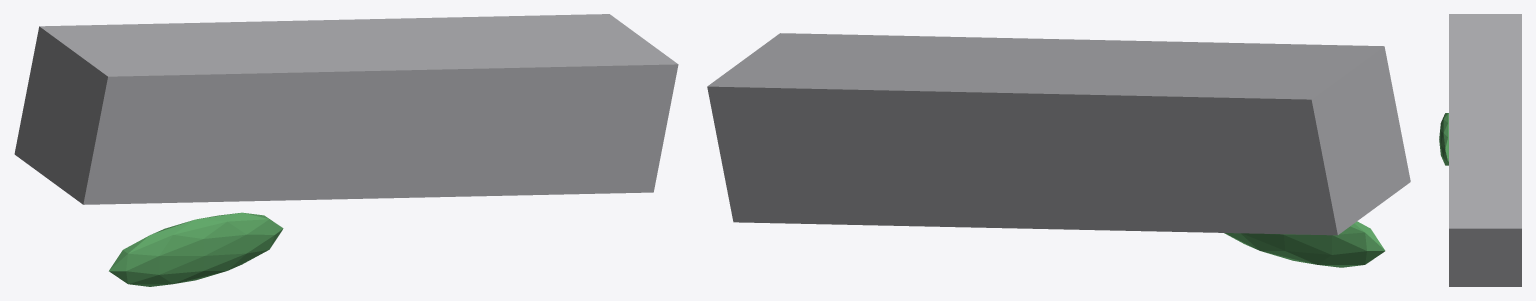
Rendered from ruins_fallen_arch_piece.glb.
The picture shows the model from 3 angles, left to right: view 1: azimuth 30°, elevation 25°; view 2: azimuth 150°, elevation 25°; view 3: azimuth 270°, elevation 25°; orthographic projection. The views are drawn at different scales.
Parts seen in each view (by area): view 1: arch_fragment, moss; view 2: arch_fragment, moss; view 3: arch_fragment, moss.
Part boxes in pixels (x1,y1,x2,y2): arch_fragment: (14,14,678,204); moss: (109,212,283,286); arch_fragment: (707,33,1410,235); moss: (1224,221,1385,267); arch_fragment: (1449,14,1521,286); moss: (1439,113,1448,165).
Size of the model in its own units: 2.25 by 0.8976 by 0.51.
